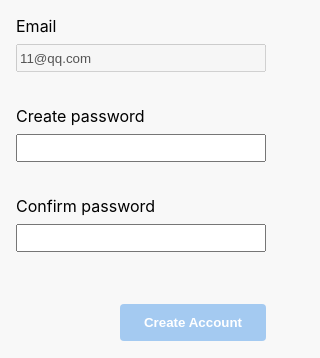
renders CreateAccount page
Check: the text "Email" is shown, box [16,16,56,36]
Check: the text "Create password" is shown, box [16,106,145,126]
// check password creation, not matching passwords
Type "123" into the password field labelled "Create password".
click(141, 148); type("123")  # box [16,134,266,162]
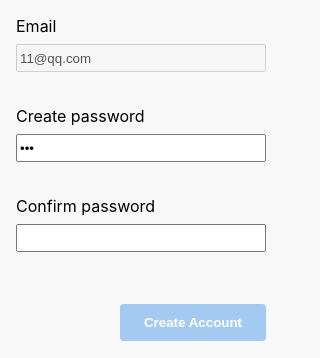
Type "1234" into the password field labelled "Confirm password".
click(141, 238); type("1234")  # box [16,224,266,252]
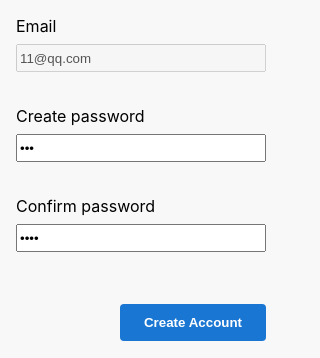
Click the button.
click(193, 322)  # box [120,304,266,341]
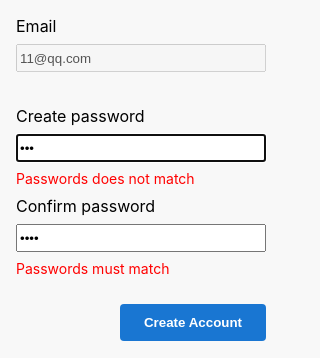
Check: the text "Passwords must match" is shown, box [16,260,169,277]
